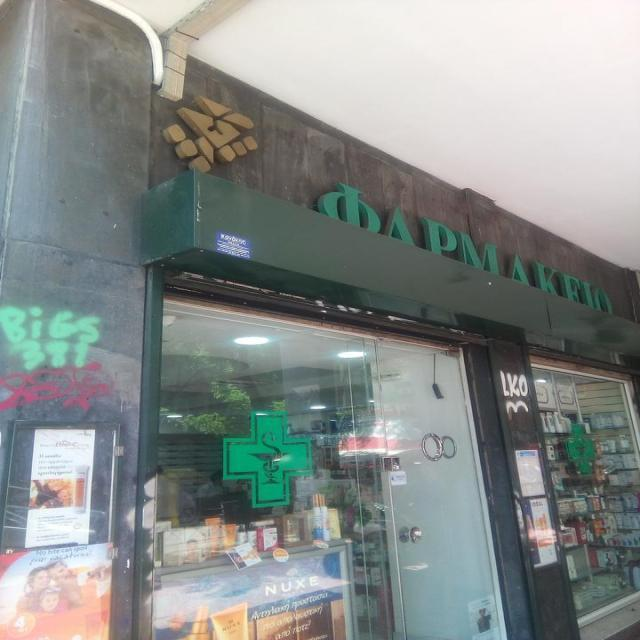nonspitting: (0, 306, 115, 412)
